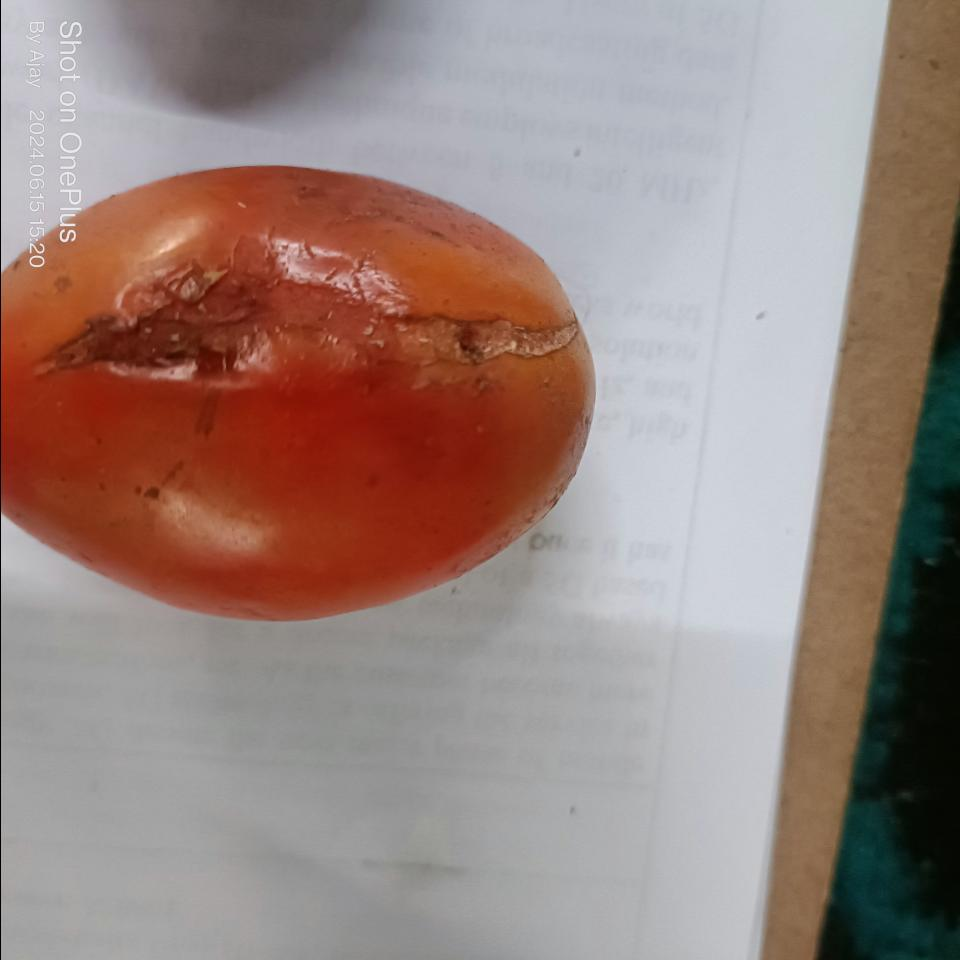Cracking: (64, 223, 579, 388)
